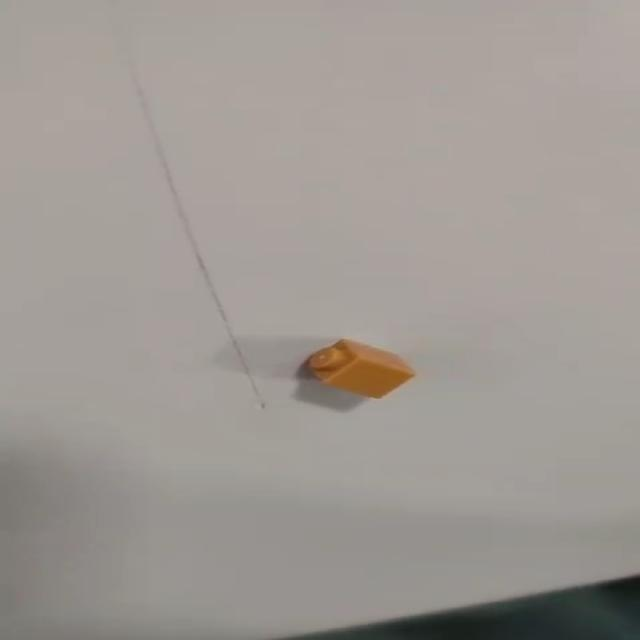C1x1x1: (304, 337, 416, 399)
